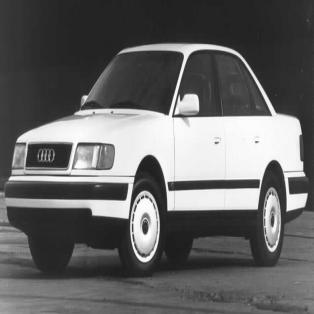Auto: (4, 41, 310, 279)
